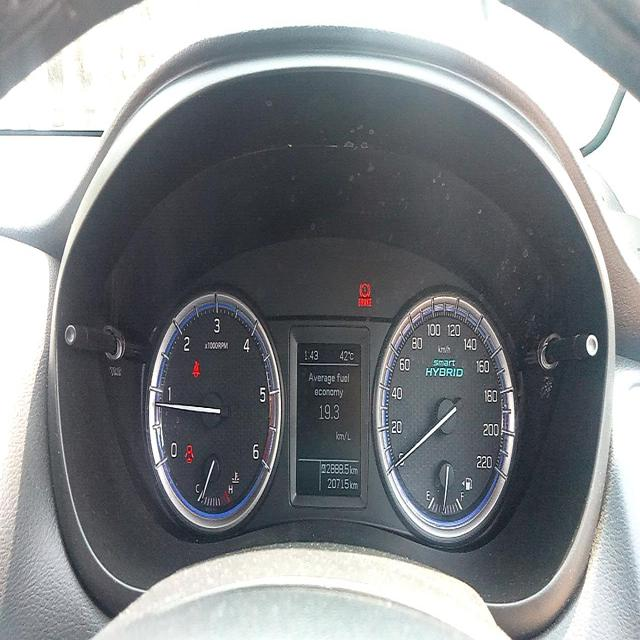odometer: (327, 476, 350, 491)
